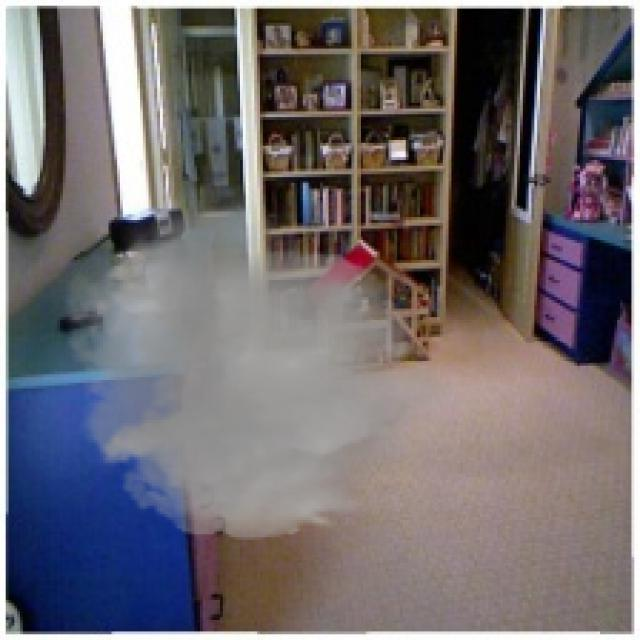Smoke: (48, 180, 466, 549)
